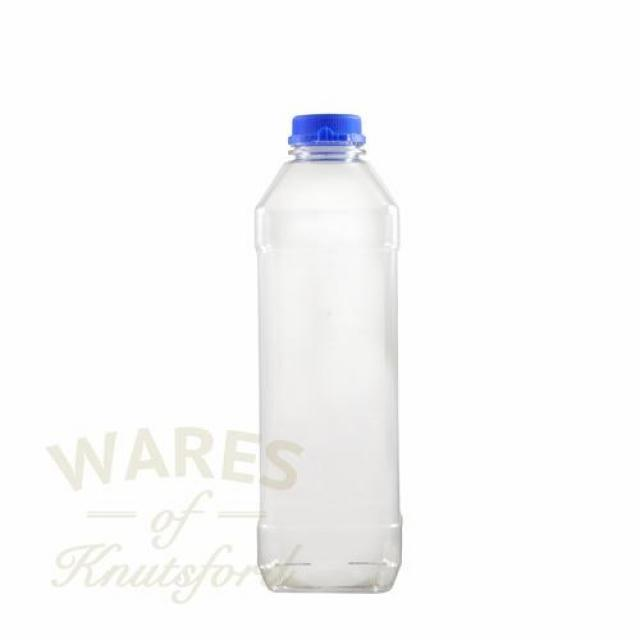plastic_bottle: (253, 111, 418, 605)
